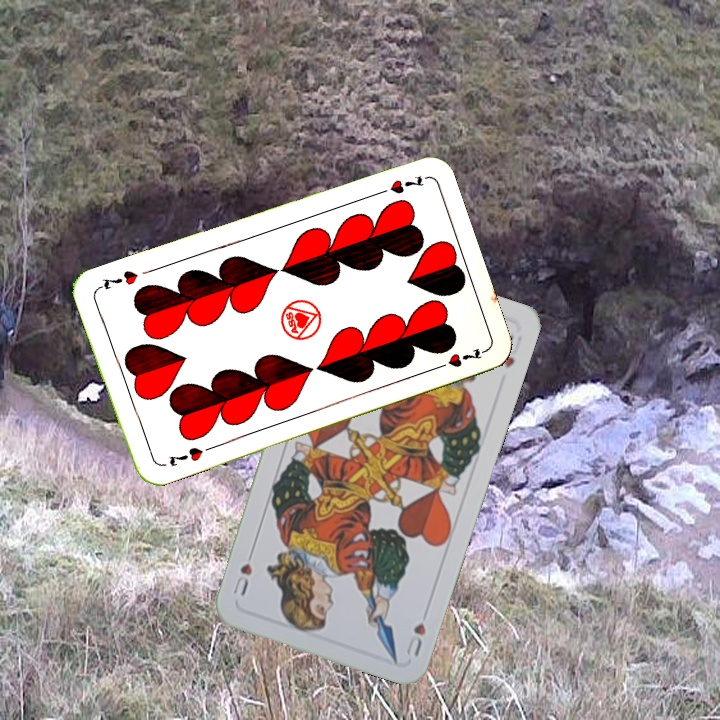H7: (370, 171, 427, 199), (165, 443, 206, 469)
HU: (402, 619, 429, 659)
